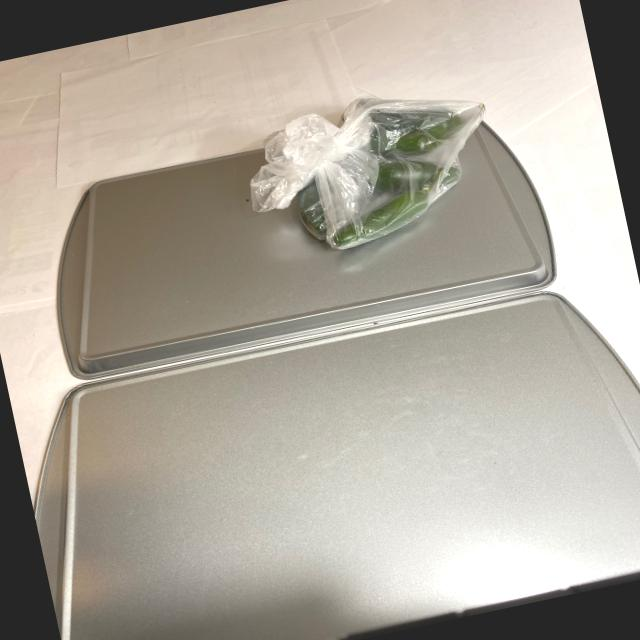chilli: (280, 77, 510, 256)
